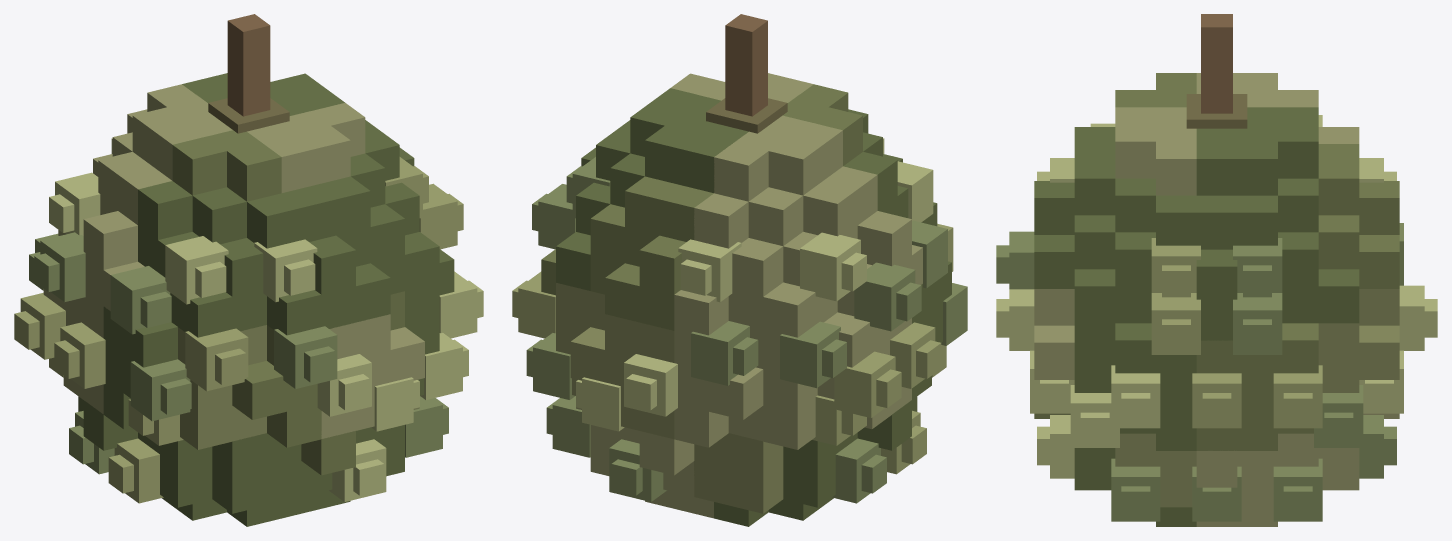
File: DU-01_kan_yao.glb
3 views of the same model, side by side, from view 1: azimuth 30°, elevation 25°; view 2: azimuth 150°, elevation 25°; view 3: azimuth 270°, elevation 25° (orthographic).
Parts seen in each view (by area): view 1: Kan Yao · original workbench cubes; view 2: Kan Yao · original workbench cubes; view 3: Kan Yao · original workbench cubes.
Part boxes in pixels (box(x1,y1,x2,y2)): Kan Yao · original workbench cubes: box(14, 14, 483, 526); Kan Yao · original workbench cubes: box(512, 14, 967, 526); Kan Yao · original workbench cubes: box(996, 14, 1437, 526).
Size of the model in its own units: 0.1522 by 0.1763 by 0.1522.
